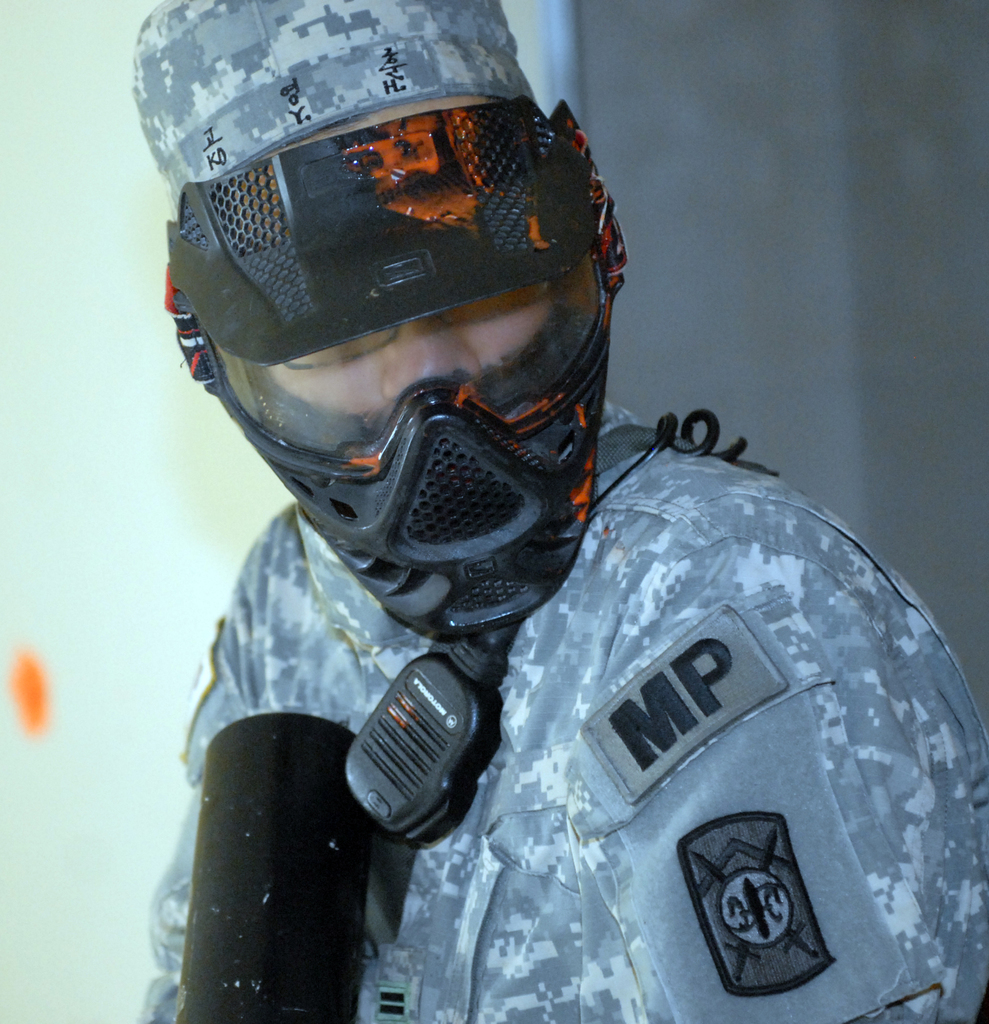Person: (130, 0, 988, 1023)
